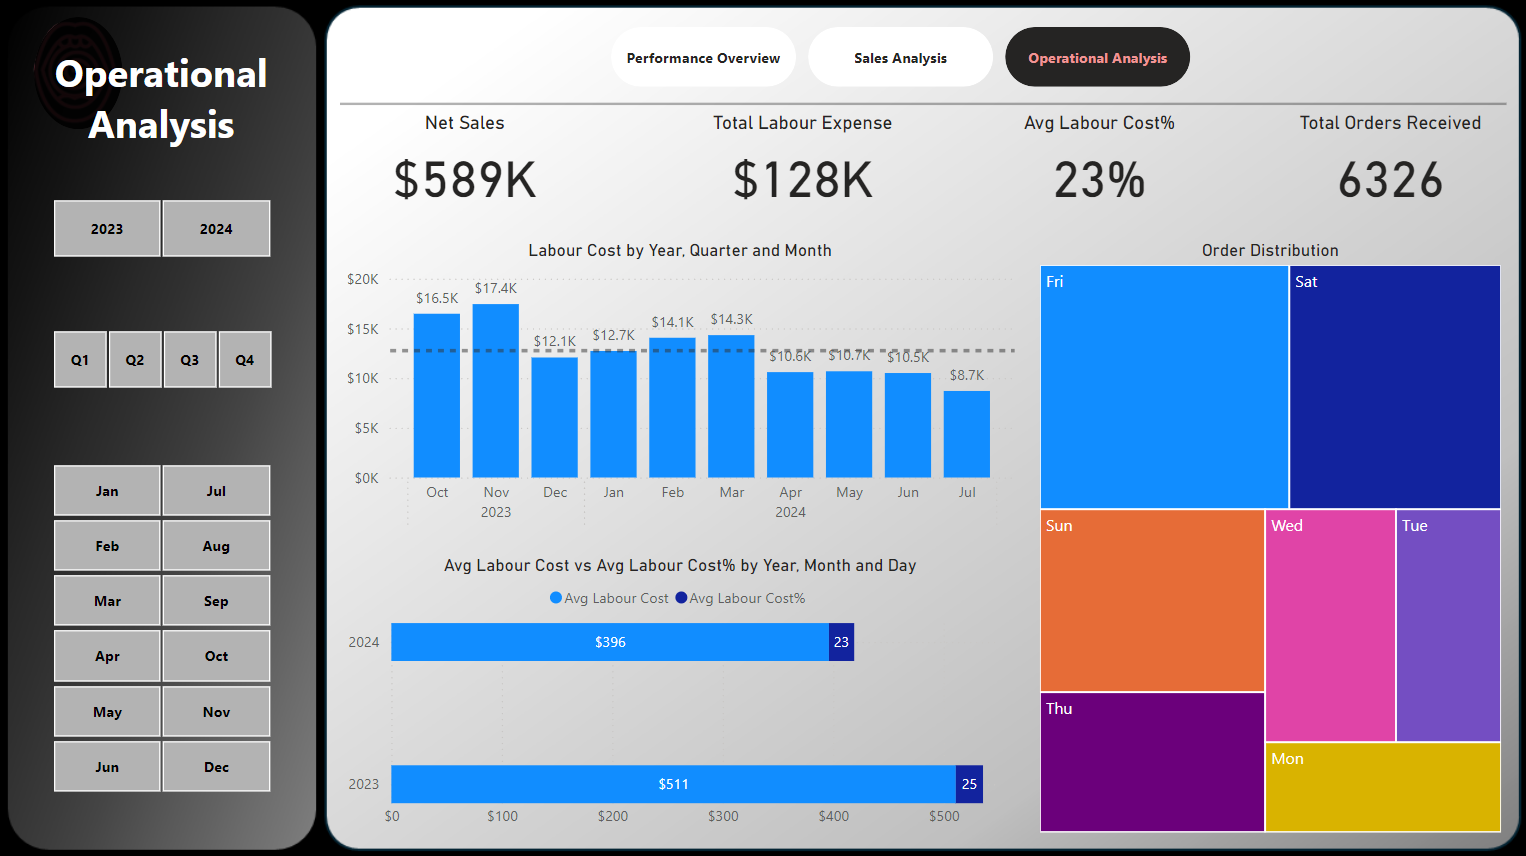

This screenshot's page, from the dashboard's own definition file:
{"tool":"powerbi","page":{"name":"Operational Analysis","canvas":[1280,720],"ordinal":2},"visuals":[{"type":"slicer","fields":{"Values":["Date.Year"]},"box":[19.6,161.3,230.5,60.5],"z":0,"group":"g1"},{"type":"shape","box":[28.5,14.7,74.2,94],"z":500},{"type":"textbox","box":[29.3,33.6,211.3,119.9],"z":1000},{"type":"slicer","fields":{"Values":["Date.Quarter"]},"box":[19.6,270.7,231.6,60.5],"z":1000,"group":"g1"},{"type":"shape","box":[284.2,73.8,976.6,28.2],"z":2000},{"type":"slicer","fields":{"Values":["Date.Month"]},"box":[19.6,383.3,230.5,286.8],"z":2000,"group":"g1"},{"type":"pageNavigator","box":[511.5,23.3,486.5,50.9],"z":3000},{"type":"group","id":"g1","title":"Group 1","box":[19.6,161.3,231.2,508.1],"z":4000},{"type":"card","title":"Total Labour Expense","fields":{"Values":["Sum(Sales Report.Labour_Cost)"]},"box":[588.3,94.2,166.9,86.7],"z":5000},{"type":"card","title":"Avg Labour Cost%","fields":{"Values":[" Measures.AverageLabourCost%"]},"box":[823.2,94.2,194.8,86.7],"z":6000},{"type":"barChart","title":"Avg Labour Cost vs Avg Labour Cost% by Year, Month and Day","fields":{"Category":["Date.Year","Date.Month","Date.Day"],"Y":["Avg(Sales Report.Labour_Cost)","Avg(Sales Report.Labour_Cost%)"]},"box":[284.3,465.2,569.6,236.8],"z":7000},{"type":"clusteredColumnChart","title":"Labour Cost by Year, Quarter and Month","fields":{"Y":["Sum(Sales Report.Labour_Cost)"],"Category":["Date.Year","Date.Month"]},"box":[284.3,201.4,569.6,249.8],"z":8000},{"type":"card","title":"Net Sales","fields":{"Values":["Sum(Sales Report.Net_Sales)"]},"box":[284.3,94.2,208.8,86.7],"z":9000},{"type":"card","title":"Total Orders Received","fields":{"Values":["Sum(Sales Report.Orders_Count)"]},"box":[1066.5,94.2,194.8,86.7],"z":10000},{"type":"treemap","title":"Order Distribution ","fields":{"Values":["Sum(Sales Report.Orders_Count)"],"Group":["Date.Day"]},"box":[865.7,201.8,396,500.7],"z":11000}]}

Visuals, with their boxes in screenshot pixels (x1, y1, x2, y2), scaled from the page's 1280x720 canvas onto the 1526x856 screenshot:
slicer - Date.Year: x1=23, y1=192, x2=298, y2=264
shape: x1=34, y1=17, x2=122, y2=129
textbox: x1=35, y1=40, x2=287, y2=182
slicer - Date.Quarter: x1=23, y1=322, x2=299, y2=394
shape: x1=339, y1=88, x2=1503, y2=121
slicer - Date.Month: x1=23, y1=456, x2=298, y2=797
pageNavigator: x1=610, y1=28, x2=1190, y2=88
"Group 1" group: x1=23, y1=192, x2=299, y2=796
"Total Labour Expense" card: x1=701, y1=112, x2=900, y2=215
"Avg Labour Cost%" card: x1=981, y1=112, x2=1214, y2=215
"Avg Labour Cost vs Avg Labour Cost% by Year, Month and Day" barChart: x1=339, y1=553, x2=1018, y2=835
"Labour Cost by Year, Quarter and Month" clusteredColumnChart: x1=339, y1=239, x2=1018, y2=536
"Net Sales" card: x1=339, y1=112, x2=588, y2=215
"Total Orders Received" card: x1=1271, y1=112, x2=1504, y2=215
"Order Distribution " treemap: x1=1032, y1=240, x2=1504, y2=835
